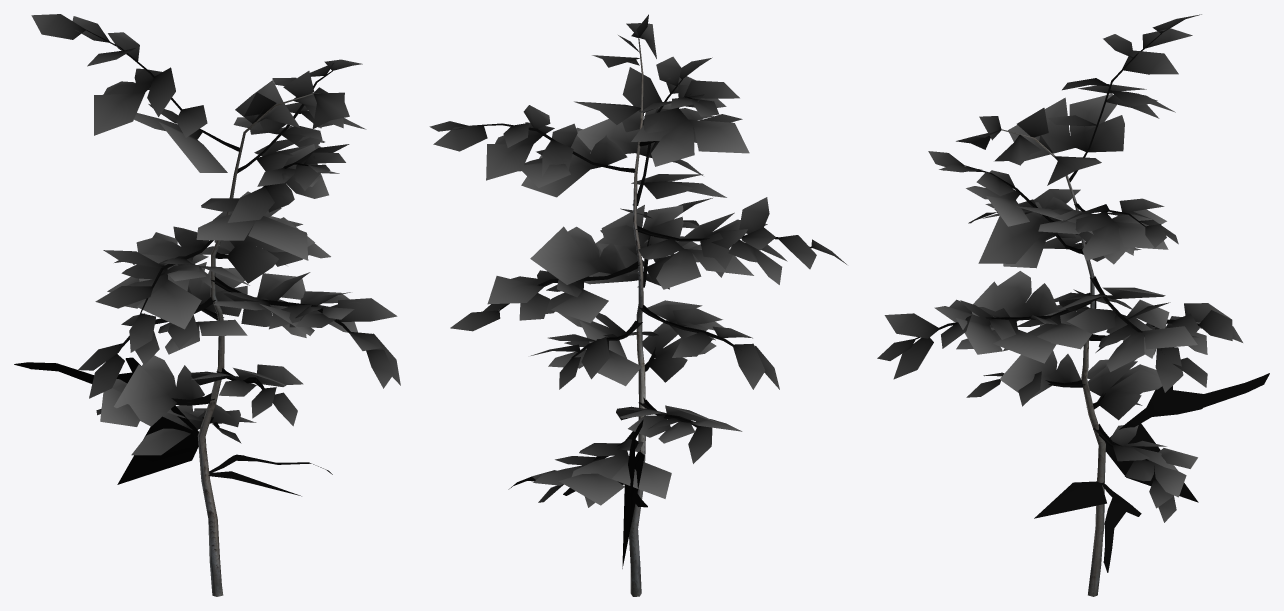
Rendered from beech_tree_00_D.FBX.
3 renders of one model, left to right at view 1: azimuth 30°, elevation 25°; view 2: azimuth 150°, elevation 25°; view 3: azimuth 270°, elevation 25°, orthographic. The views are drawn at different scales.
Visible parts, largest first — view 1: beech_tree_00_D_LOD0; view 2: beech_tree_00_D_LOD0; view 3: beech_tree_00_D_LOD0.
Part boxes in pixels (x1,y1,x2,y2): beech_tree_00_D_LOD0: (14,14,400,596); beech_tree_00_D_LOD0: (429,14,846,596); beech_tree_00_D_LOD0: (877,14,1269,596).
Size of what is drawn, in the model's own units: 3739 by 6138 by 4143.
